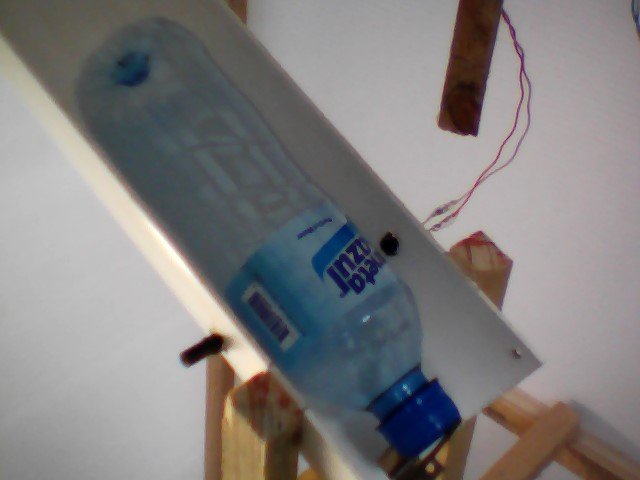plastico: (75, 5, 469, 474)
